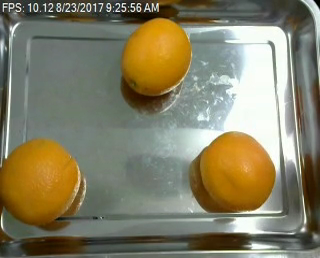Orange: (1, 136, 81, 225), (199, 130, 276, 211), (120, 16, 192, 95)
